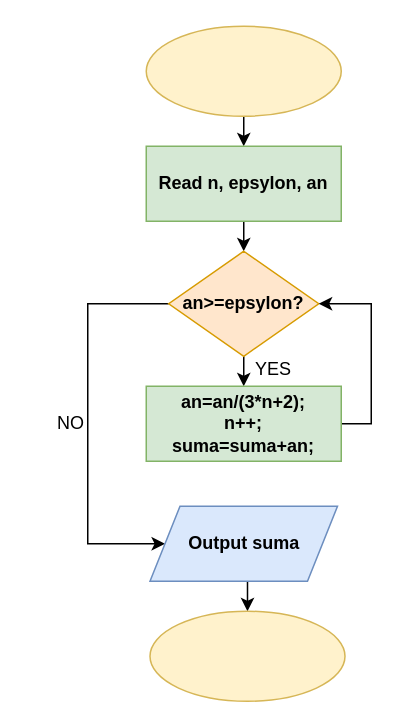
The diagram is 410 pixels wide and 728 high, and some of its shapes have lost their labels. Each missing label, with the centre of its shape:
"Finish" goes at point (246, 655).
"Start" goes at point (243, 70).
